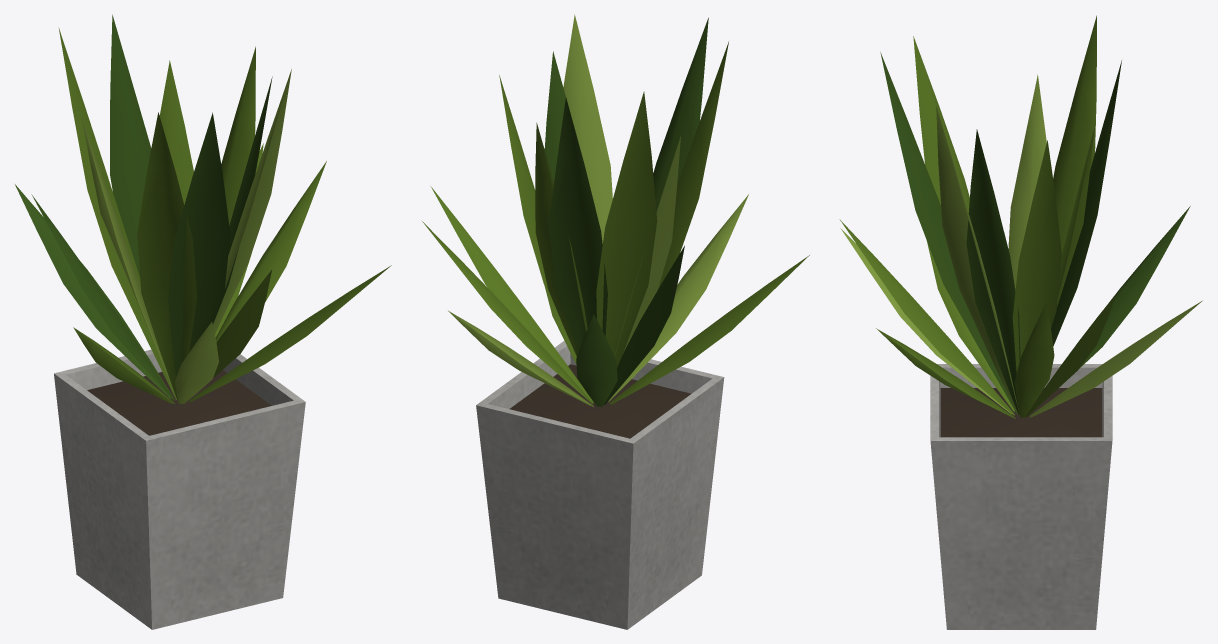
File: greenery.desk-plant-small.glb
3 renders of one model, left to right at view 1: azimuth 30°, elevation 25°; view 2: azimuth 150°, elevation 25°; view 3: azimuth 270°, elevation 25°, orthographic.
Visible parts, largest first — view 1: greenery.desk-plant-small.001; view 2: greenery.desk-plant-small.001; view 3: greenery.desk-plant-small.001.
Boxes of the visible parts, x1=… form: greenery.desk-plant-small.001: x1=15, y1=14, x2=391, y2=629; greenery.desk-plant-small.001: x1=422, y1=14, x2=809, y2=629; greenery.desk-plant-small.001: x1=839, y1=15, x2=1202, y2=629.
Size of the model in its own units: 0.255 by 0.42 by 0.255.
Materials: 5 (1 with a texture image).
